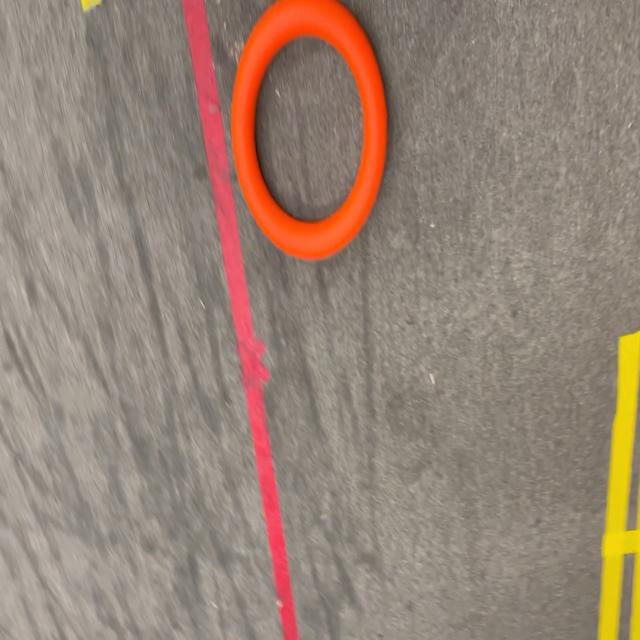note: (232, 1, 391, 259)
